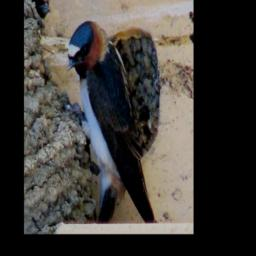Swallow: (67, 19, 161, 221)
